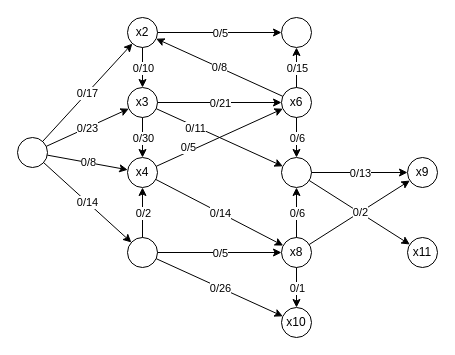
Image size: 455x355. Some labels were removed from this diagram. Each missing label, with the box of its shape:
x1: (16, 136, 48, 168)
x12: (280, 16, 312, 48)
x5: (126, 236, 158, 268)
x7: (280, 156, 312, 188)
